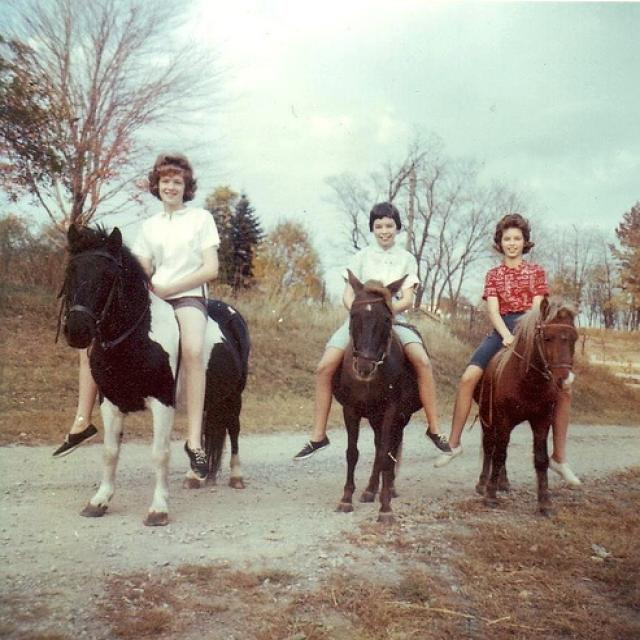horse: (48, 218, 252, 512), (452, 296, 583, 518), (322, 266, 435, 521)
